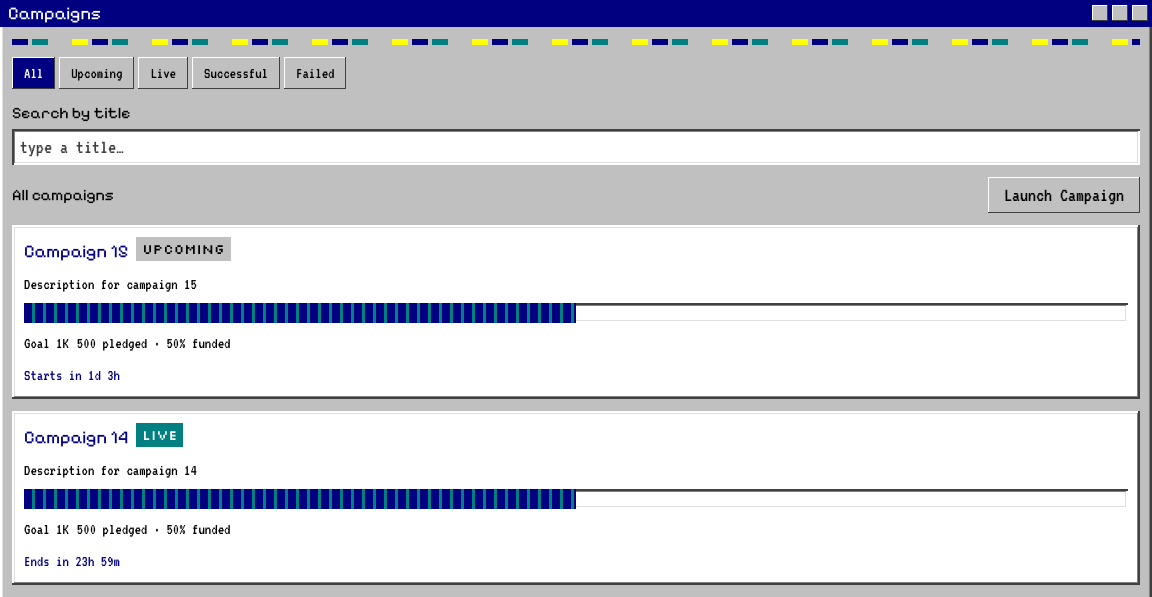
Test: CampaignListWindow list behaviour › filters by title search
The image size is (1152, 597).
In the search field with test id "search-input": (576, 146) [12,128,1140,164], type "campaign 14"
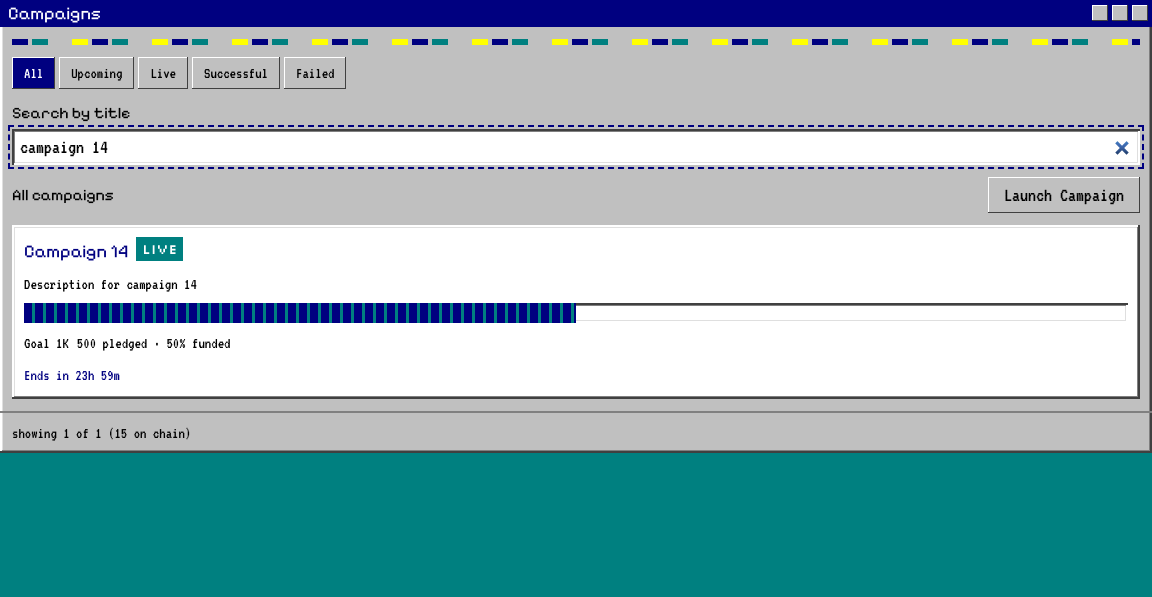
Check: the heading with test id "card-title" reads "Campaign 14", box [24,240,128,262]
Check: the number of buttons with test id "campaign-card" is 1, box [12,224,1140,398]
